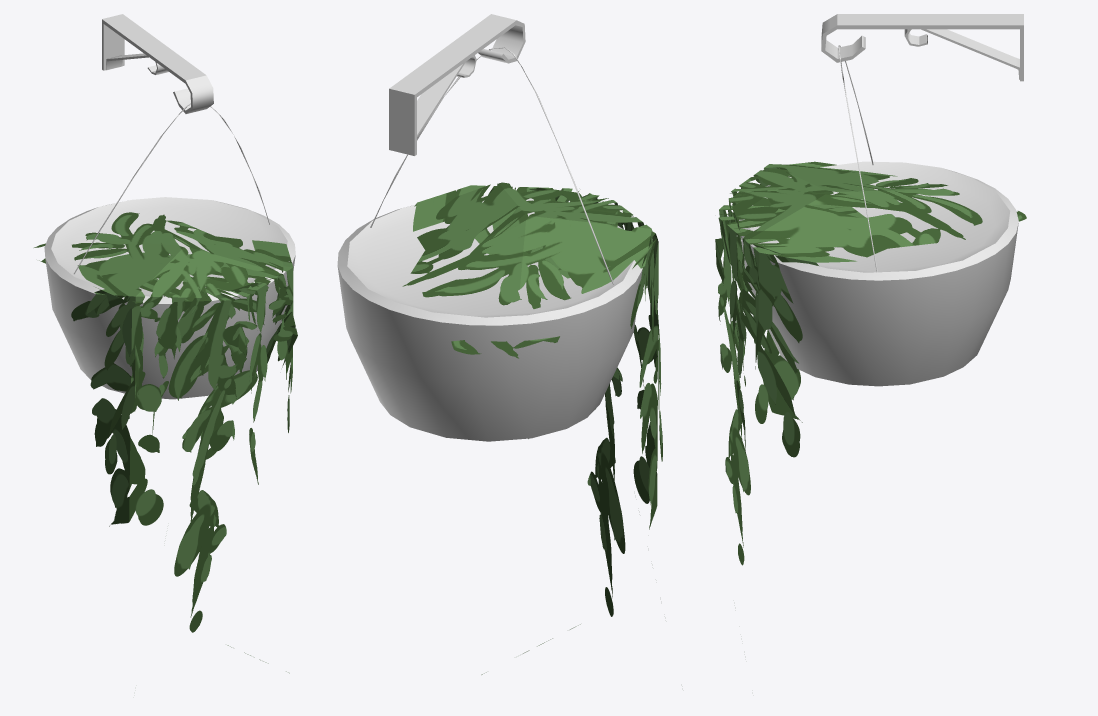
File: hanging plant 1.fbx
The picture shows the model from 3 angles, left to right: view 1: azimuth 30°, elevation 25°; view 2: azimuth 150°, elevation 25°; view 3: azimuth 270°, elevation 25°; orthographic projection. The views are drawn at different scales.
Parts seen in each view (by area): view 1: Plane.079, Plane.080, Cylinder.030, Cube.024, BézierCurve.007; view 2: Cylinder.030, Plane.080, Plane.079, Cube.024, BézierCurve.007; view 3: Cylinder.030, Plane.080, Plane.079, Cube.024, BézierCurve.007.
Boxes of the visible parts, box(x1,y1,x2,y2) form: Plane.079: box(34, 240, 293, 673); Plane.080: box(72, 212, 297, 474); Cylinder.030: box(44, 197, 295, 399); Cube.024: box(102, 14, 213, 113); BézierCurve.007: box(74, 103, 269, 274); Cylinder.030: box(337, 195, 642, 441); Plane.080: box(402, 182, 662, 461); Plane.079: box(413, 185, 658, 674); Cube.024: box(389, 14, 525, 155); BézierCurve.007: box(370, 47, 614, 284); Cylinder.030: box(739, 161, 1018, 386); Plane.080: box(728, 164, 982, 386); Plane.079: box(715, 161, 1026, 565); Cube.024: box(821, 14, 1023, 81); BézierCurve.007: box(838, 45, 877, 272).
Size of the model in its own units: 95.92 by 235 by 121.
Materials: 3 (1 with a texture image).
